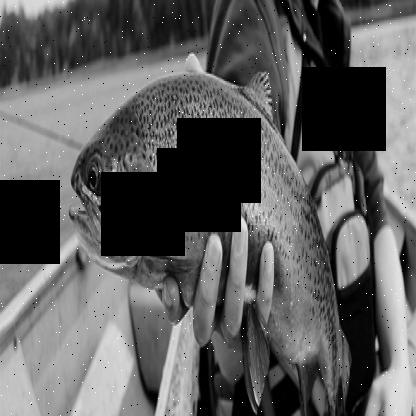fish: (67, 64, 355, 414)
